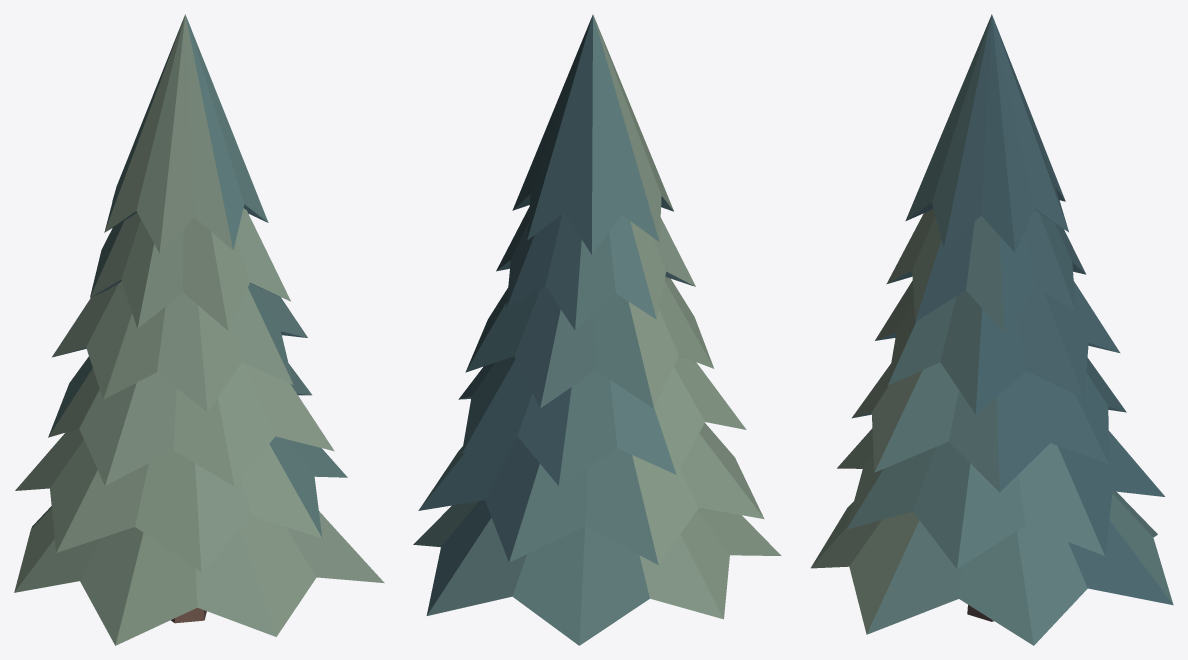
Rendered from pine_l.glb.
3 views of the same model, side by side, from view 1: azimuth 30°, elevation 25°; view 2: azimuth 150°, elevation 25°; view 3: azimuth 270°, elevation 25° (orthographic).
Visible parts, largest first — view 1: pine_l; view 2: pine_l; view 3: pine_l.
Boxes of the visible parts, bbox=[...] form: pine_l: bbox=[14, 14, 384, 645]; pine_l: bbox=[413, 14, 781, 645]; pine_l: bbox=[811, 14, 1173, 645].
Size of the model in its own units: 3.09 by 5.7 by 3.14.
